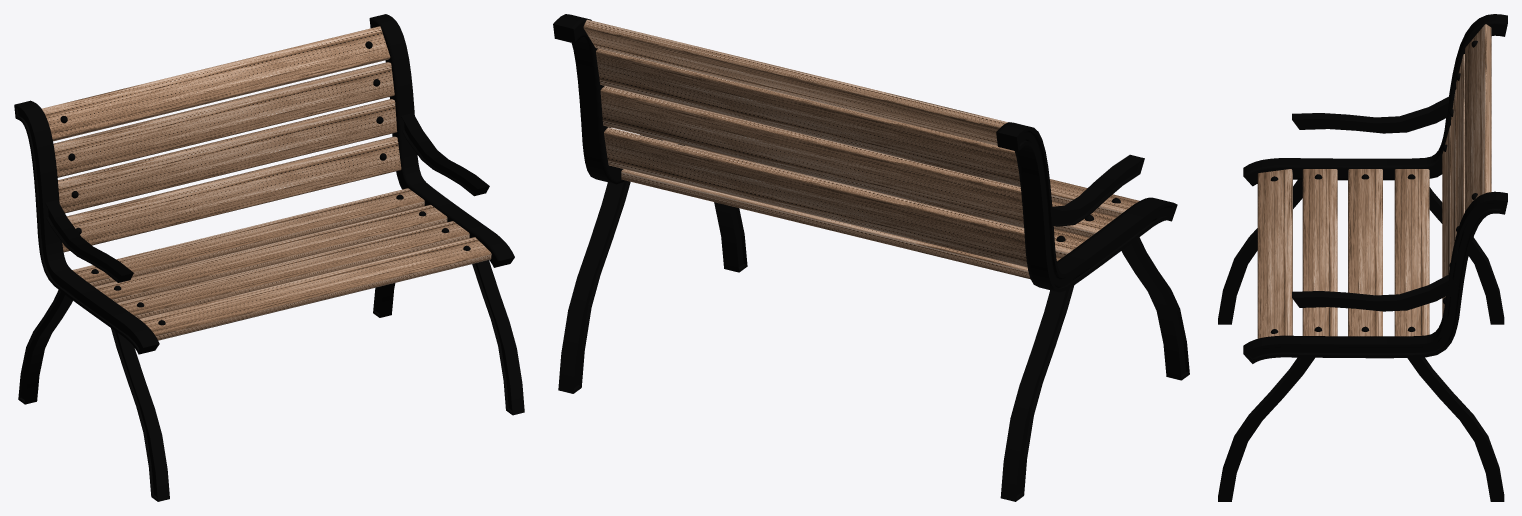
The model's file is bank.obj.
3 views of the same model, side by side, from view 1: azimuth 30°, elevation 25°; view 2: azimuth 150°, elevation 25°; view 3: azimuth 270°, elevation 25° (orthographic). The views are drawn at different scales.
Visible parts, largest first — view 1: ChamferBox13, ChamferBox12, ChamferBox11, ChamferBox10, ChamferBox09, ChamferBox07, ChamferBox08, ChamferBox06, Loft91, Loft92, Box309, Box311 (+4 smaller); view 2: ChamferBox11, ChamferBox10, ChamferBox12, ChamferBox13, Loft91, Box310, Box385, ChamferBox06, Loft92, Box309, Box312, Box311 (+3 smaller); view 3: Loft92, ChamferBox09, ChamferBox08, ChamferBox06, ChamferBox07, ChamferBox13, Loft91, Box314, Box312, Box311, Box385, Box309 (+4 smaller).
Part boxes in pixels (x1=…): ChamferBox13: x1=42, y1=26, x2=390, y2=141; ChamferBox12: x1=53, y1=62, x2=394, y2=177; ChamferBox11: x1=58, y1=99, x2=397, y2=213; ChamferBox10: x1=62, y1=136, x2=401, y2=252; ChamferBox09: x1=139, y1=237, x2=491, y2=340; ChamferBox07: x1=94, y1=205, x2=447, y2=302; ChamferBox08: x1=117, y1=221, x2=469, y2=318; ChamferBox06: x1=72, y1=188, x2=424, y2=286; Loft91: x1=14, y1=100, x2=159, y2=354; Loft92: x1=369, y1=14, x2=514, y2=267; Box309: x1=111, y1=328, x2=169, y2=501; Box311: x1=472, y1=260, x2=524, y2=415; ChamferBox11: x1=600, y1=86, x2=1023, y2=227; ChamferBox10: x1=604, y1=127, x2=1027, y2=267; ChamferBox12: x1=596, y1=48, x2=1020, y2=187; ChamferBox13: x1=583, y1=19, x2=1007, y2=145; Loft91: x1=996, y1=122, x2=1177, y2=292; Box310: x1=1000, y1=285, x2=1074, y2=501; Box385: x1=558, y1=180, x2=630, y2=393; ChamferBox06: x1=621, y1=169, x2=1060, y2=279; Loft92: x1=553, y1=14, x2=662, y2=184; Box309: x1=1121, y1=237, x2=1189, y2=380; Box312: x1=1052, y1=154, x2=1144, y2=226; Box311: x1=714, y1=202, x2=747, y2=272; Loft92: x1=1243, y1=191, x2=1507, y2=363; ChamferBox09: x1=1257, y1=169, x2=1292, y2=338; ChamferBox08: x1=1302, y1=169, x2=1337, y2=336; ChamferBox06: x1=1394, y1=169, x2=1429, y2=336; ChamferBox07: x1=1348, y1=169, x2=1382, y2=336; ChamferBox13: x1=1465, y1=24, x2=1491, y2=211; Loft91: x1=1243, y1=14, x2=1507, y2=186; Box314: x1=1292, y1=274, x2=1459, y2=311; Box312: x1=1292, y1=96, x2=1448, y2=133; Box311: x1=1218, y1=357, x2=1314, y2=501; Box385: x1=1407, y1=357, x2=1504, y2=501; Box309: x1=1218, y1=180, x2=1302, y2=324.
Size of the model in its own units: 21.68 by 16.48 by 14.28.
2 materials, 1 textured.
